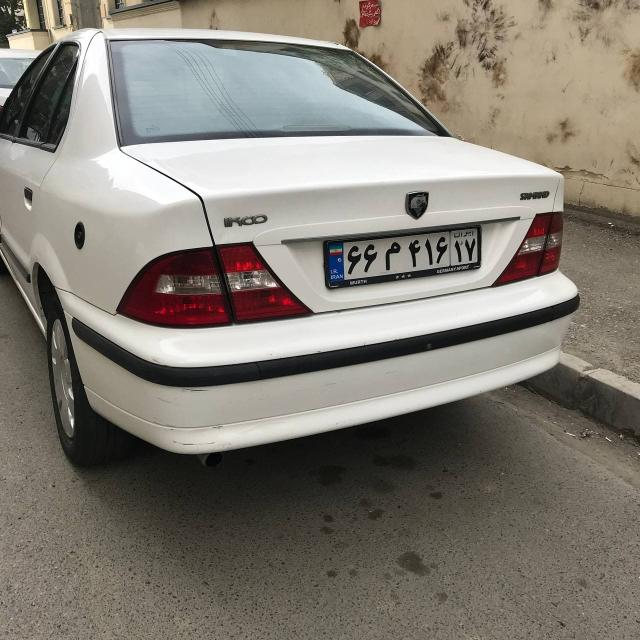Plates: (325, 225, 482, 282)
